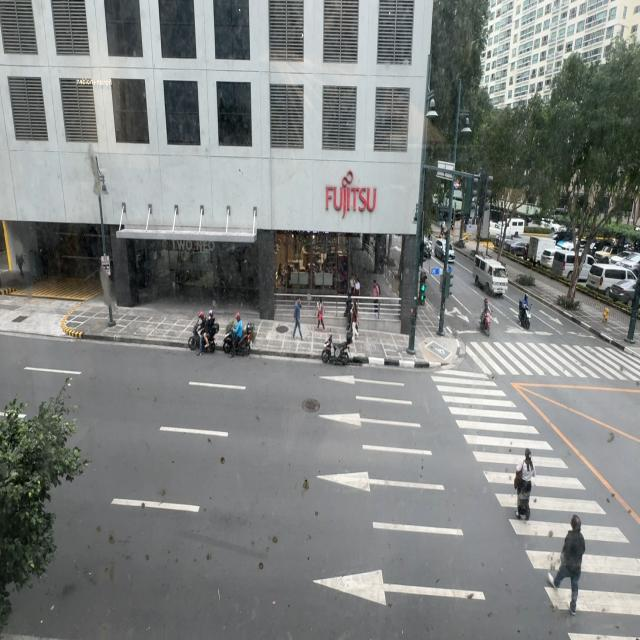crossing: (547, 513, 585, 615), (514, 449, 536, 520)
pedestrain: (348, 306, 359, 354), (292, 298, 303, 342), (316, 297, 325, 332)
